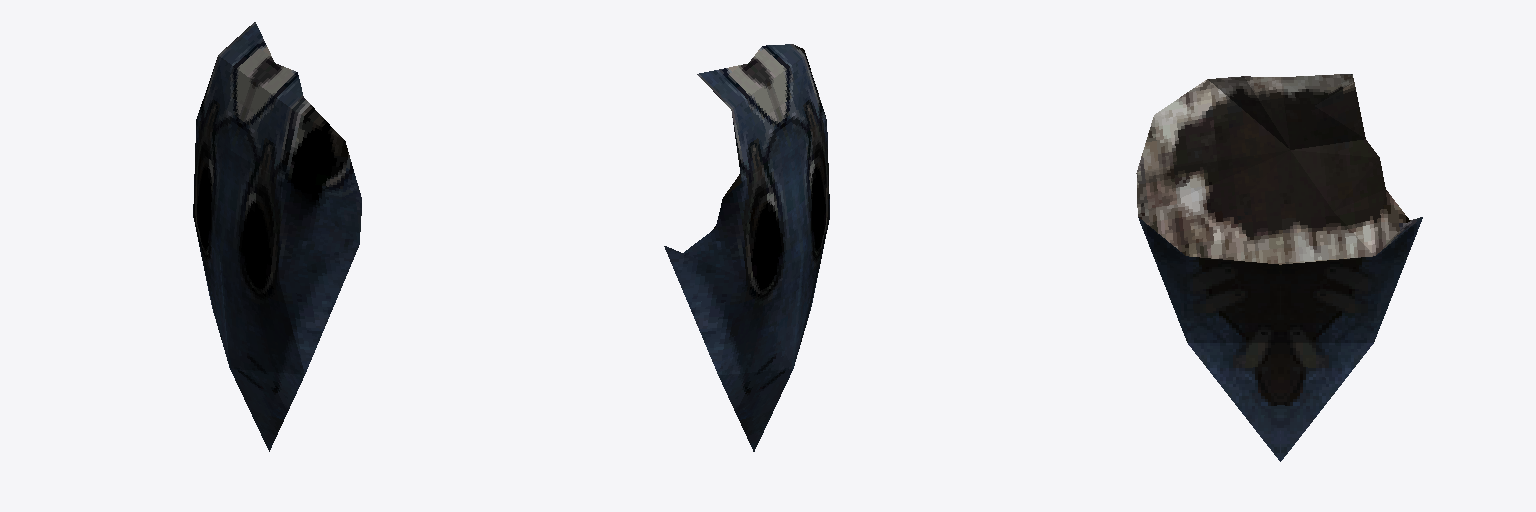
3 views of the same model, side by side, from view 1: azimuth 30°, elevation 25°; view 2: azimuth 150°, elevation 25°; view 3: azimuth 270°, elevation 25° (orthographic).
Parts seen in each view (by area): view 1: garbage_base1; view 2: garbage_base1; view 3: garbage_base1.
Part boxes in pixels (bbox=[...]): garbage_base1: bbox=[193, 22, 361, 451]; garbage_base1: bbox=[664, 44, 829, 451]; garbage_base1: bbox=[1136, 74, 1422, 461].
Bounding box in the file's own units: 7.01 × 37.78 × 24.6.
Materials: 1 (1 with a texture image).